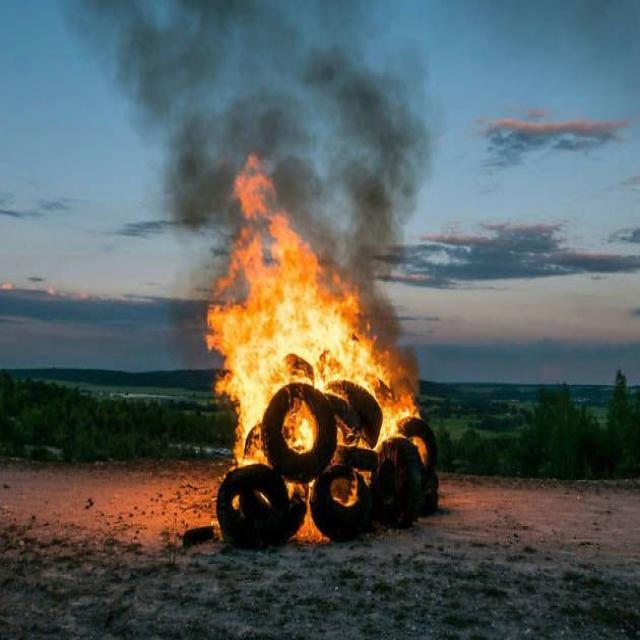fire: (205, 215, 427, 468), (235, 155, 273, 221)
